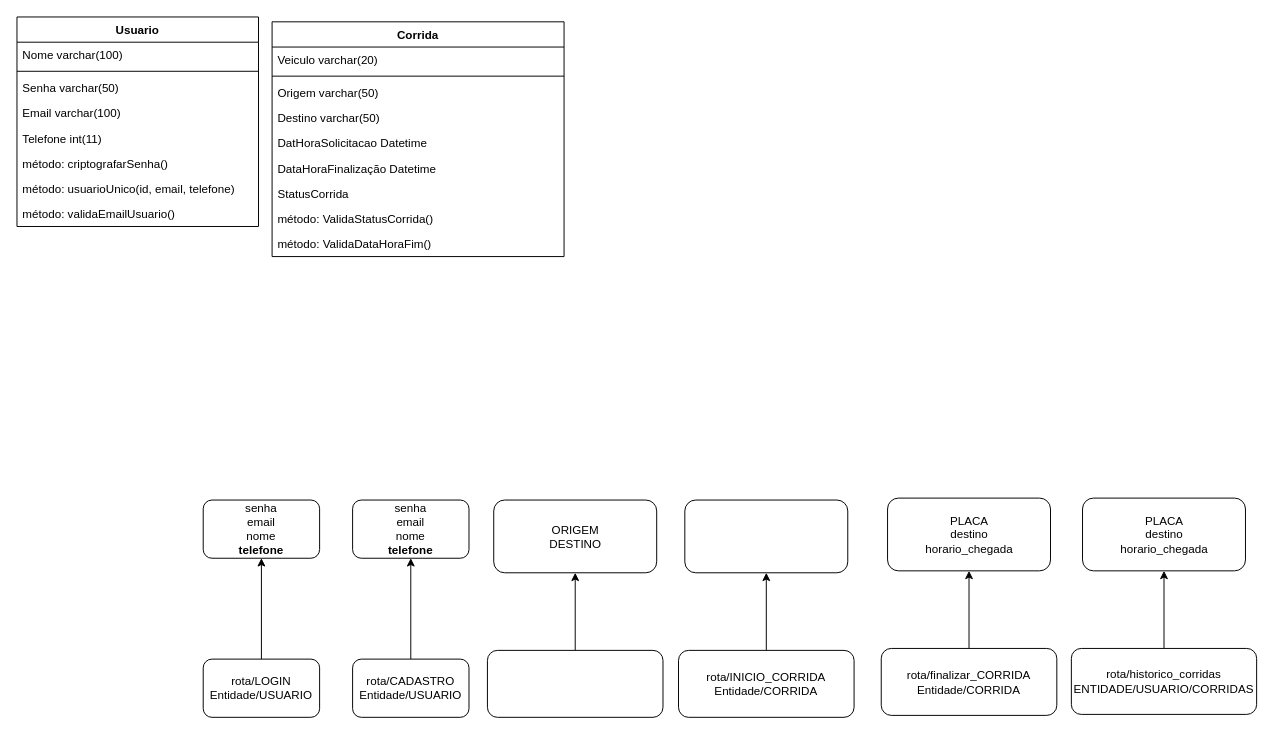
The diagram is 1274 pixels wide and 734 high, and some of its shapes have lost their labels. Each missing label, with the box of its shape:
PLACA PREVISAO STATUS: (684, 499, 848, 573)
rota/CADASTRO_CORRIDA Entidade/CORRIDA: (486, 649, 663, 717)
